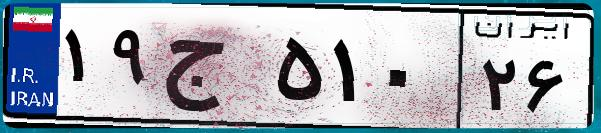0: (385, 28, 445, 110)
1: (330, 28, 385, 110), (57, 26, 110, 100)
2: (475, 38, 525, 113)
5: (270, 28, 330, 110)
6: (525, 38, 570, 115)
9: (110, 28, 158, 98)
ج: (158, 20, 270, 120)
